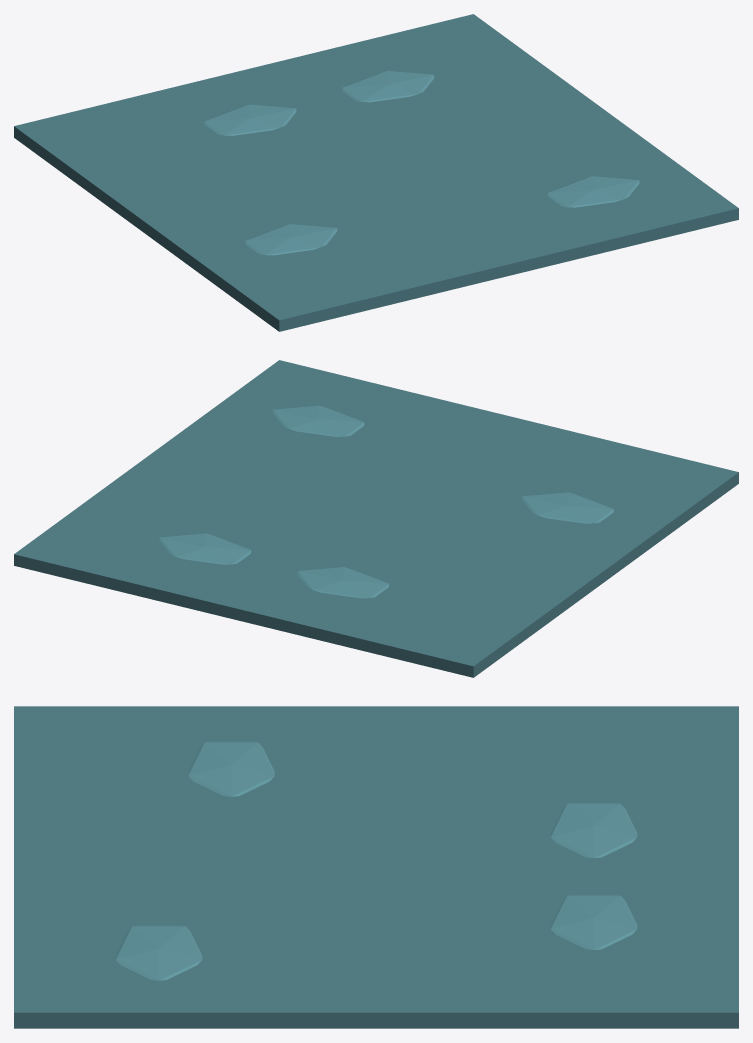
Rendered from SH10_L07_Ground.fbx.
3 views of the same model, one above another, from view 1: azimuth 30°, elevation 25°; view 2: azimuth 150°, elevation 25°; view 3: azimuth 270°, elevation 25° (orthographic). The views are drawn at different scales.
Visible parts, largest first — view 1: SH10_L07_Ground; view 2: SH10_L07_Ground; view 3: SH10_L07_Ground.
Part boxes in pixels (box(x1,y1,x2,y2)): SH10_L07_Ground: box(14, 14, 738, 331); SH10_L07_Ground: box(14, 360, 738, 677); SH10_L07_Ground: box(14, 706, 738, 1028).
Size of the model in its own units: 1000 by 28.5 by 1000.
